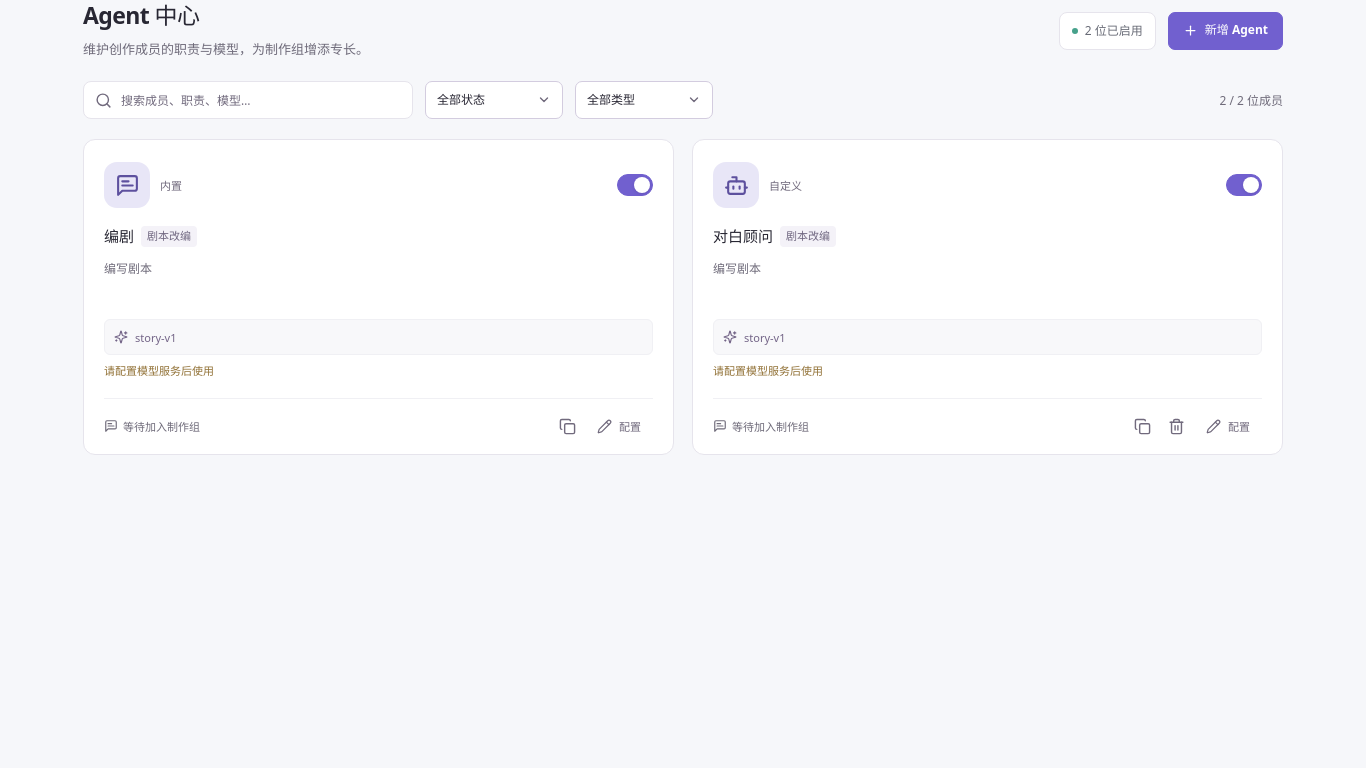
it: keeps a failed deletion open, explains project references and allows retry
Click the button named "删除 对白顾问" at x=1176, y=426, box 1160,410 -> 1192,442
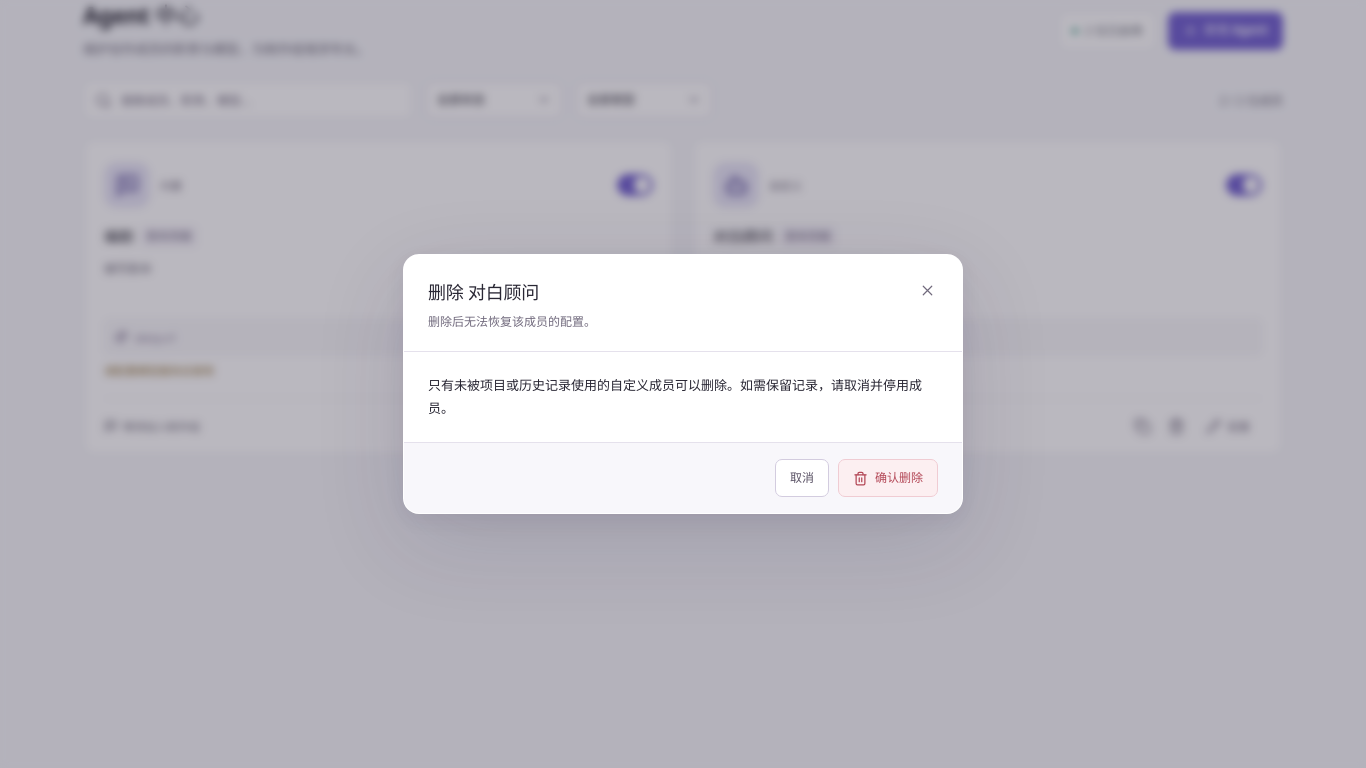
Click the button "确认删除" at x=888, y=478, box 838,459 -> 938,497
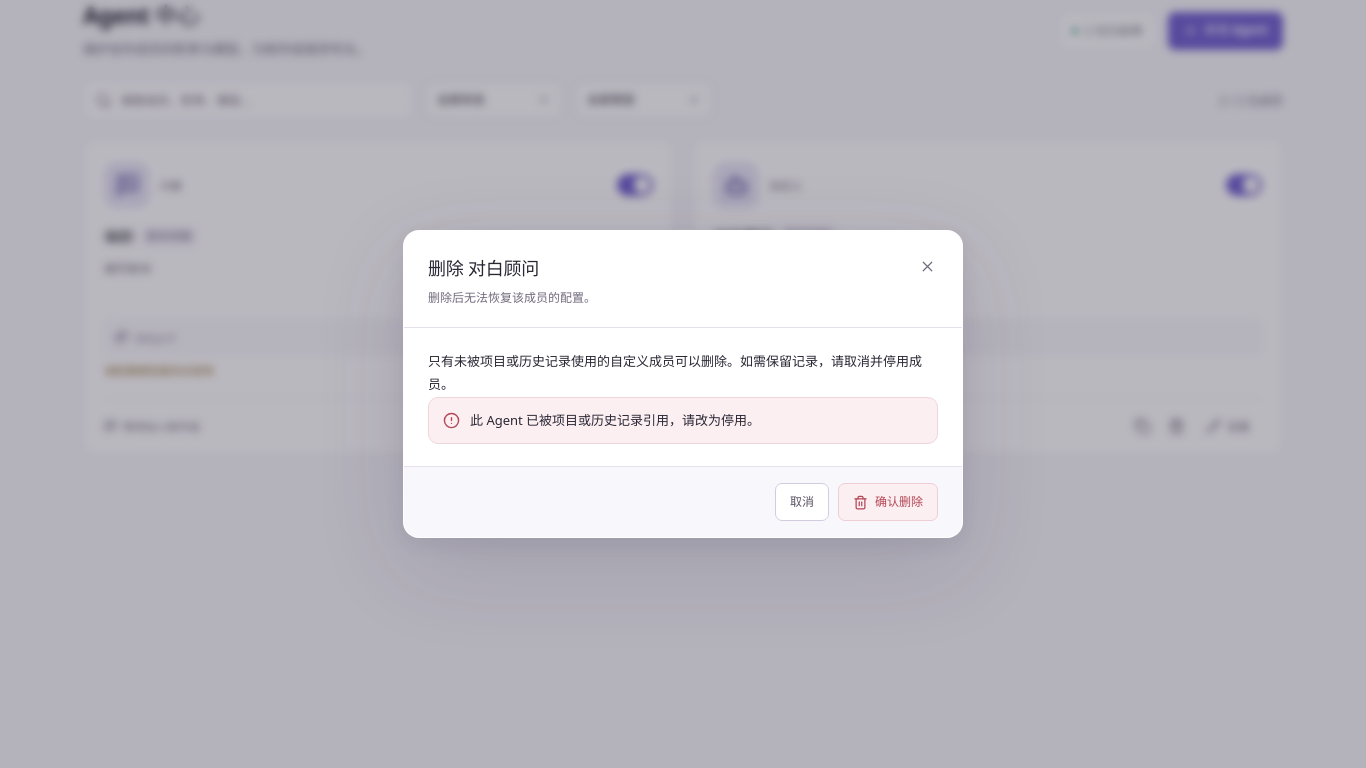
expect the dialog "删除 对白顾问" is shown: met, box 403,230 -> 963,538
expect the message shows "请改为停用": met, box 470,411 -> 760,429
Click the button "确认删除" at x=888, y=502, box 838,483 -> 938,521
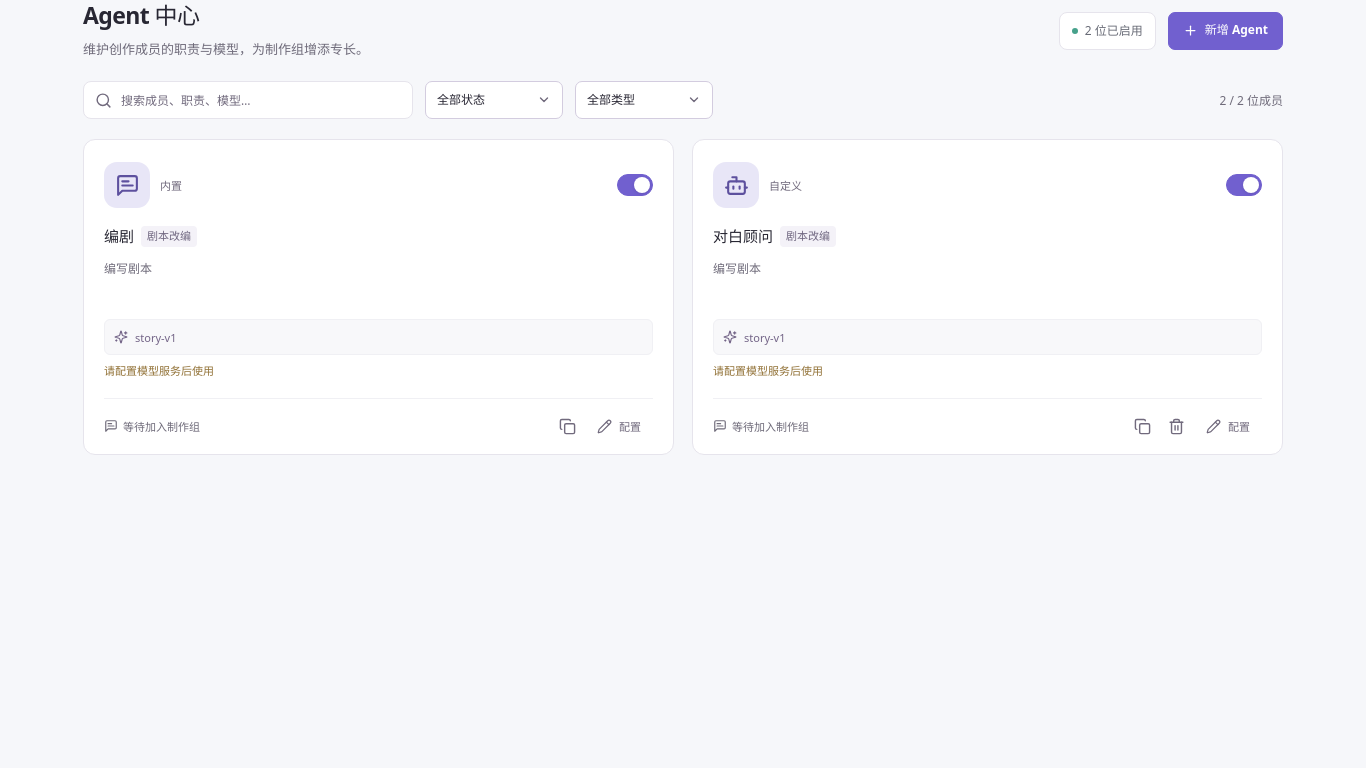
expect the dialog is gone: met
